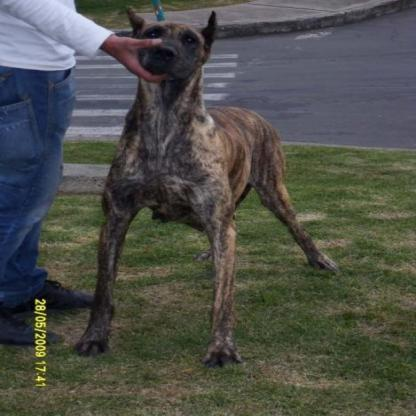Great_Dane: (71, 6, 332, 366)
